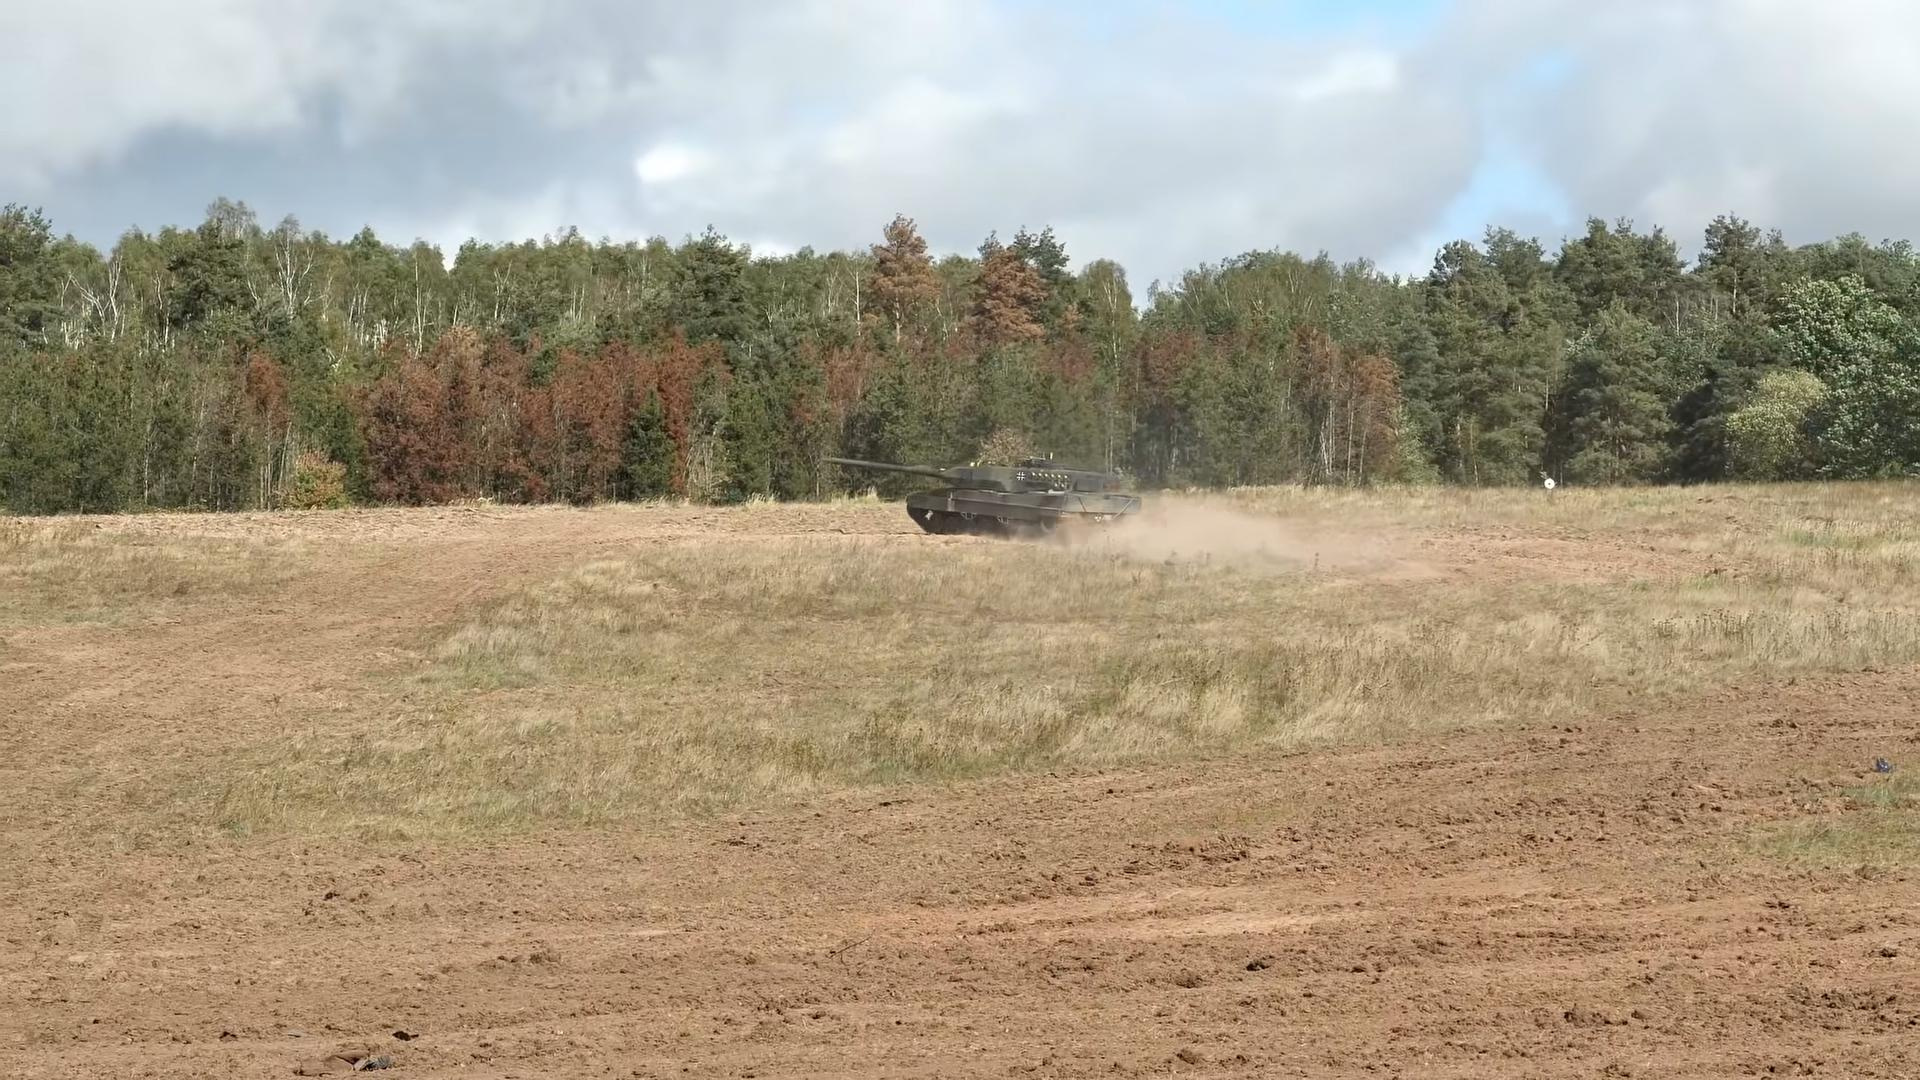tank: (824, 456, 1141, 541)
